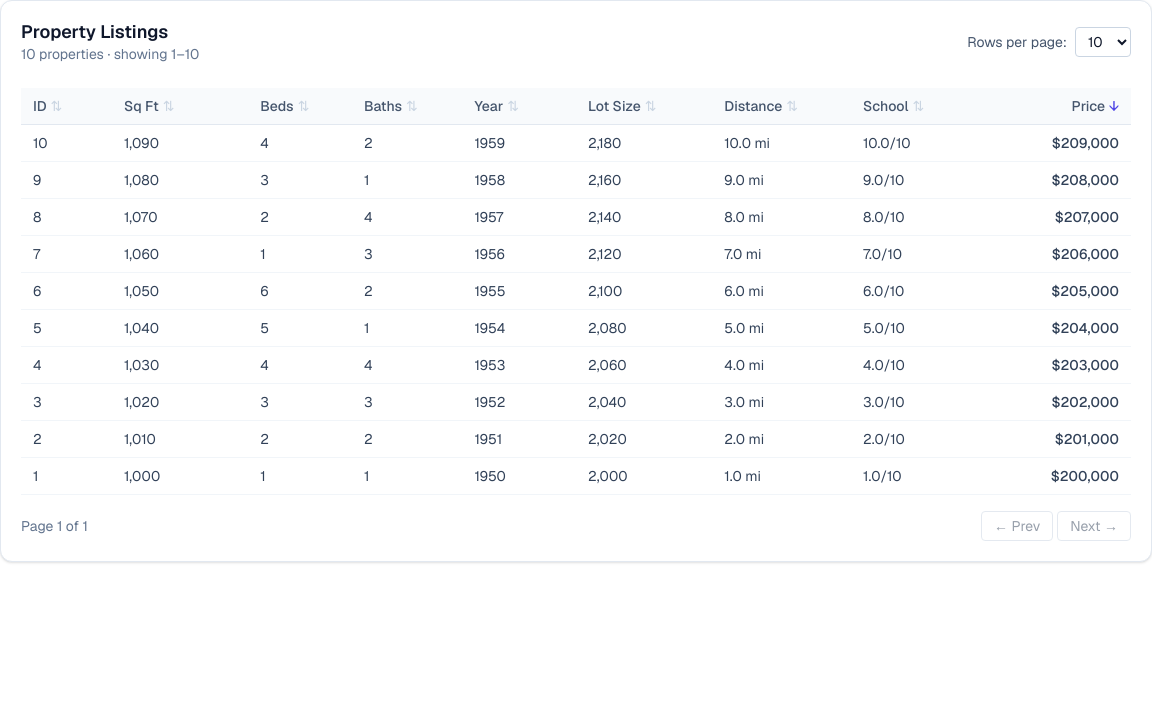
DataTable › sorting › sorts by a different column when clicking its header
Click the button with aria-label "sort by sq ft" at (149, 106), box [124, 96, 174, 116]
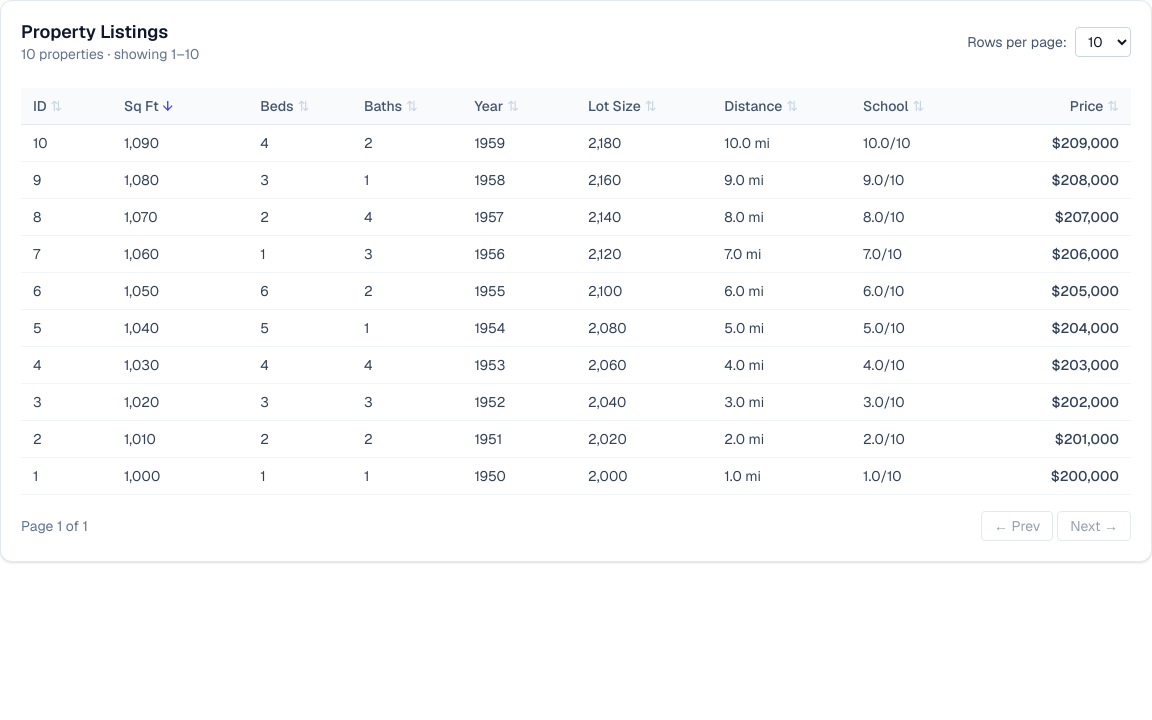
Result: the button with aria-label "sort by sq ft" shows "↓" at [124, 96, 173, 116]
